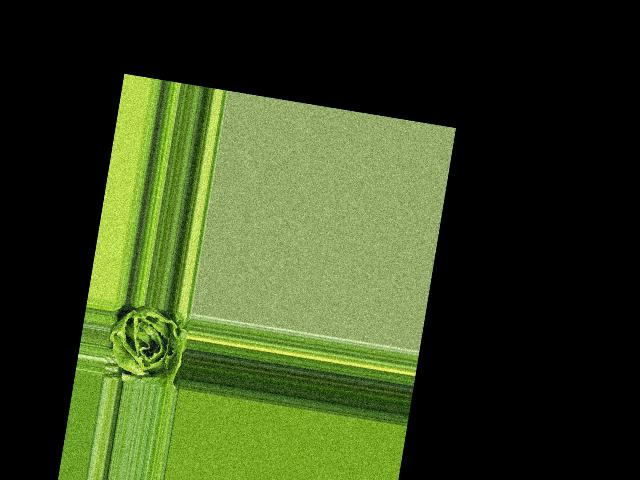lettuce: (103, 302, 190, 390)
